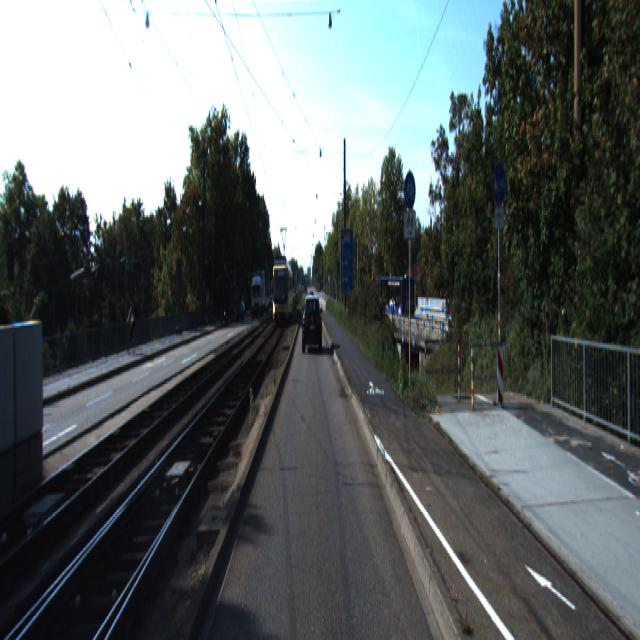Car: (374, 277, 416, 331), (270, 254, 290, 328), (304, 294, 322, 352)
